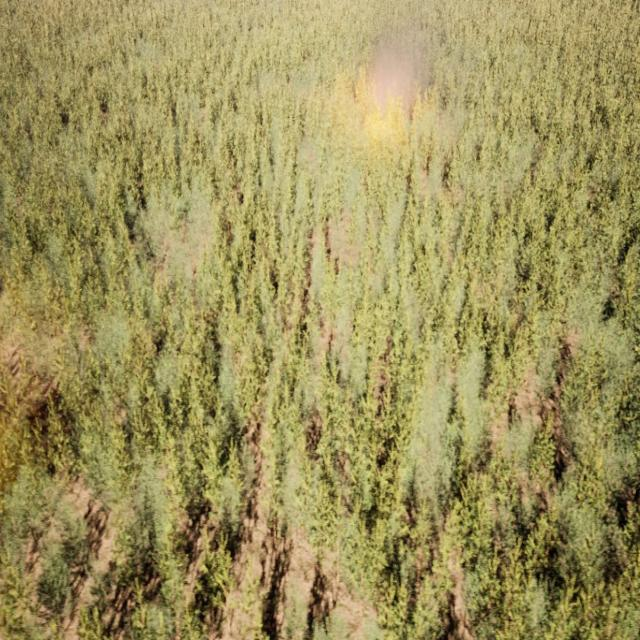smoke: (348, 41, 422, 136)
